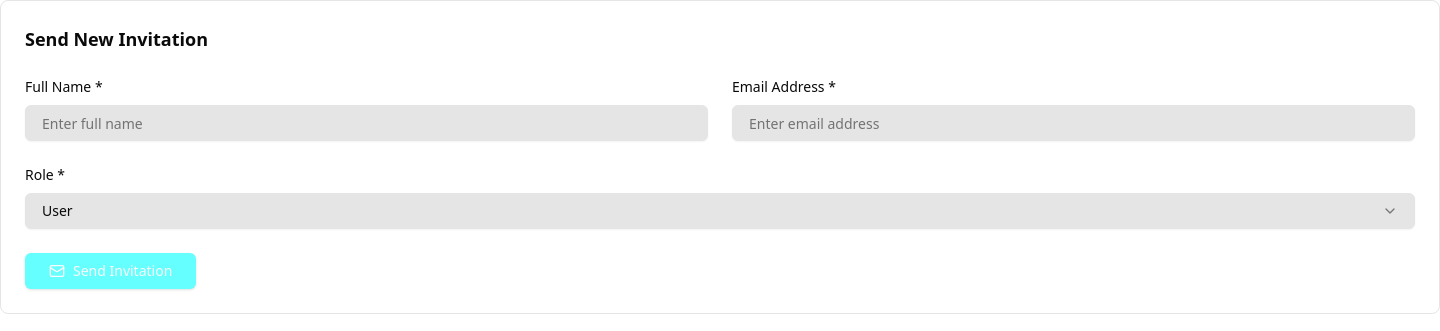
Test: InvitationForm › clears form after submission
The width and height of the screenshot is (1440, 331).
In the field labelled "Full Name *": (366, 123) [25,105,708,141], type "Reset Tester"
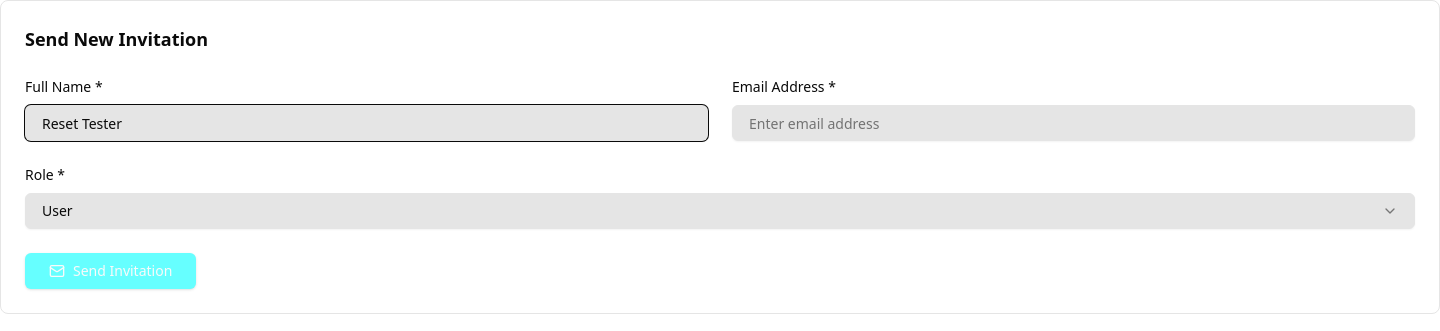
In the field labelled "Email Address *": (1074, 123) [732,105,1415,141], type "reset@example.com"
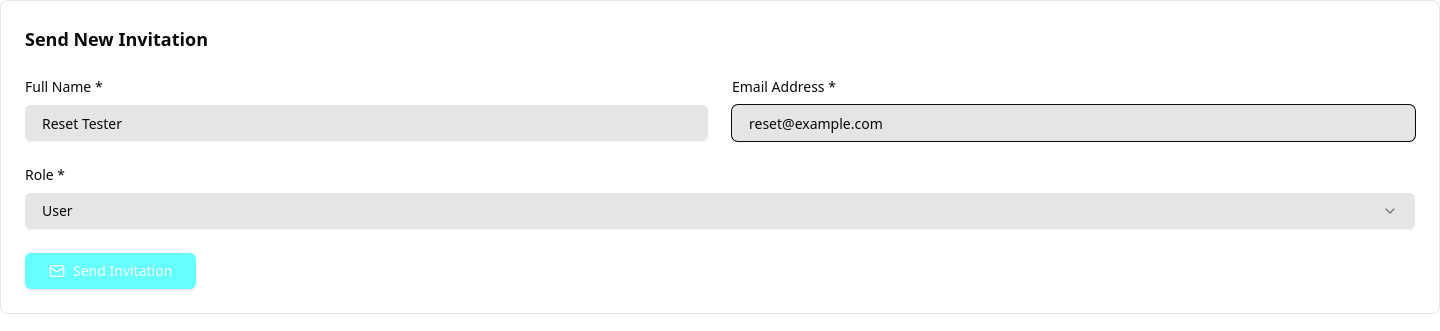
Click the button "Send Invitation": (111, 271) [25,253,196,289]
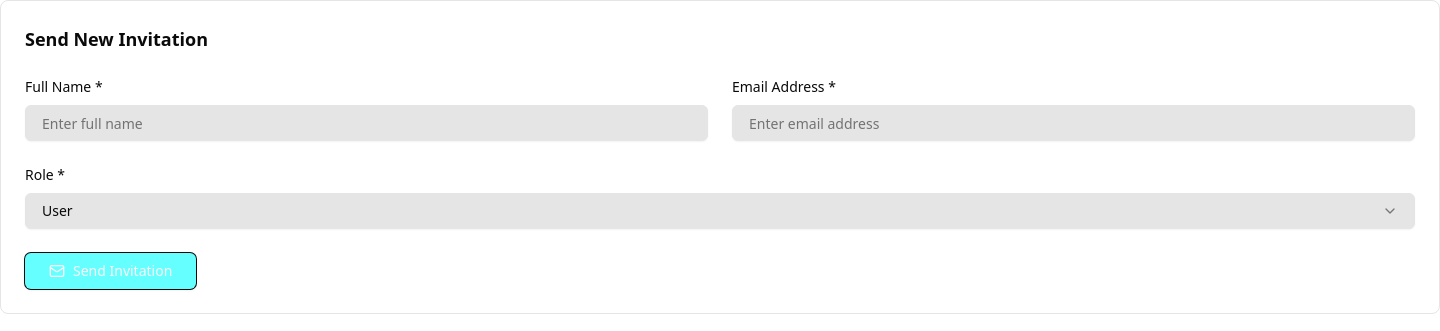
Result: the field labelled "Full Name *" is empty at [25,105,708,141]
Result: the field labelled "Email Address *" is empty at [732,105,1415,141]
